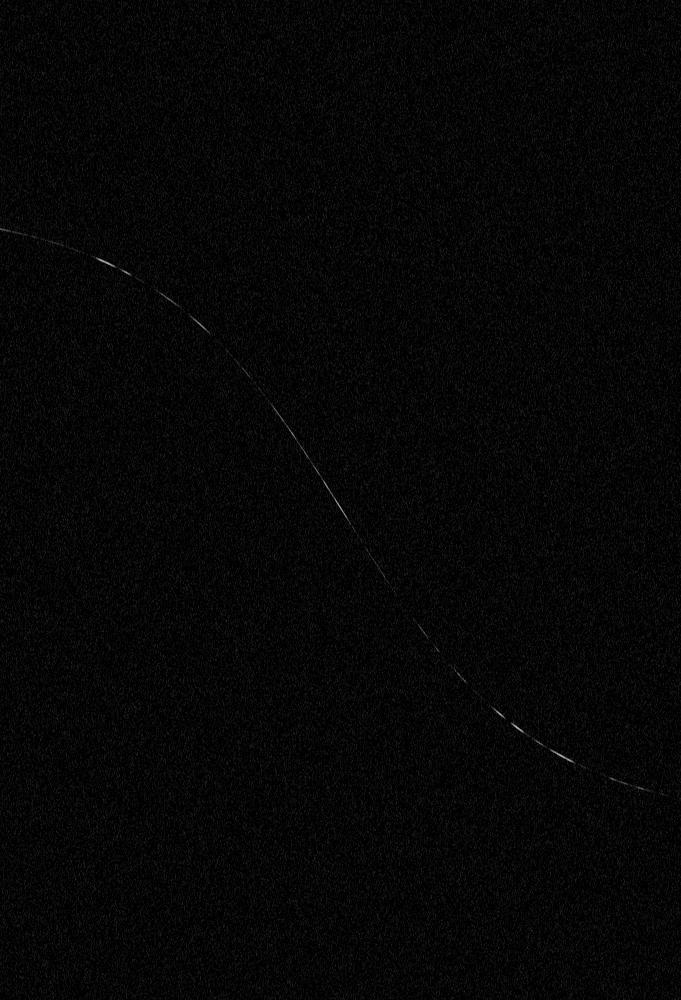signal: (0, 0, 680, 999)
